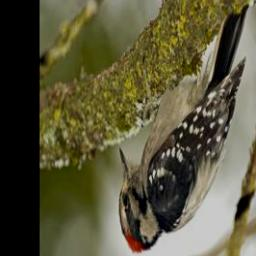Woodpecker: (118, 0, 256, 256)
